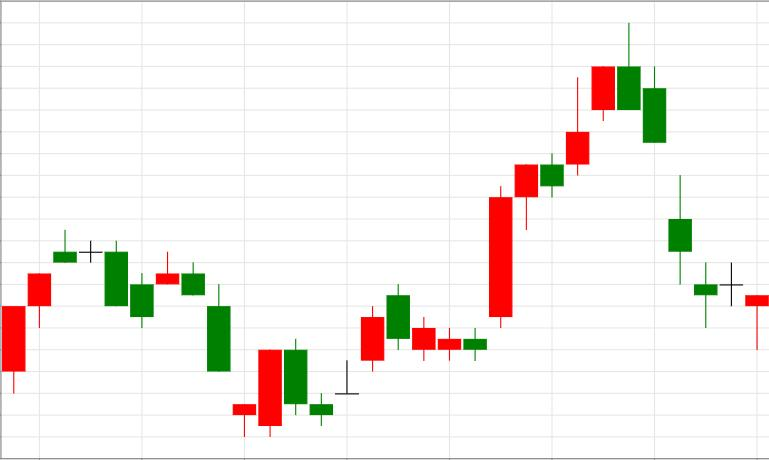shooting_star_fall: (489, 77, 589, 328)
